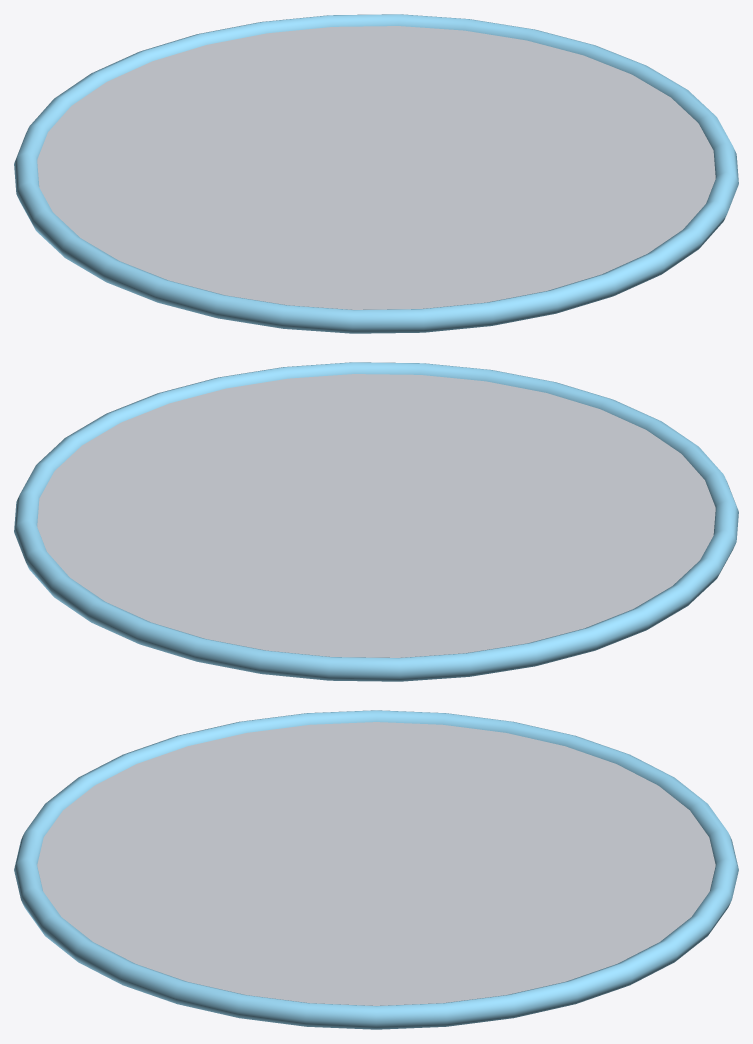
File: marina_left.glb
The picture shows the model from 3 angles, top to bottom: view 1: azimuth 30°, elevation 25°; view 2: azimuth 150°, elevation 25°; view 3: azimuth 270°, elevation 25°; orthographic projection.
Visible parts, largest first — view 1: marina_left; view 2: marina_left; view 3: marina_left.
Boxes of the visible parts, box(x1,y1,x2,y2) form: marina_left: box(14, 14, 738, 333); marina_left: box(14, 362, 738, 681); marina_left: box(14, 710, 738, 1029).
Size of the model in its own units: 0.86 by 0.03 by 0.86.
